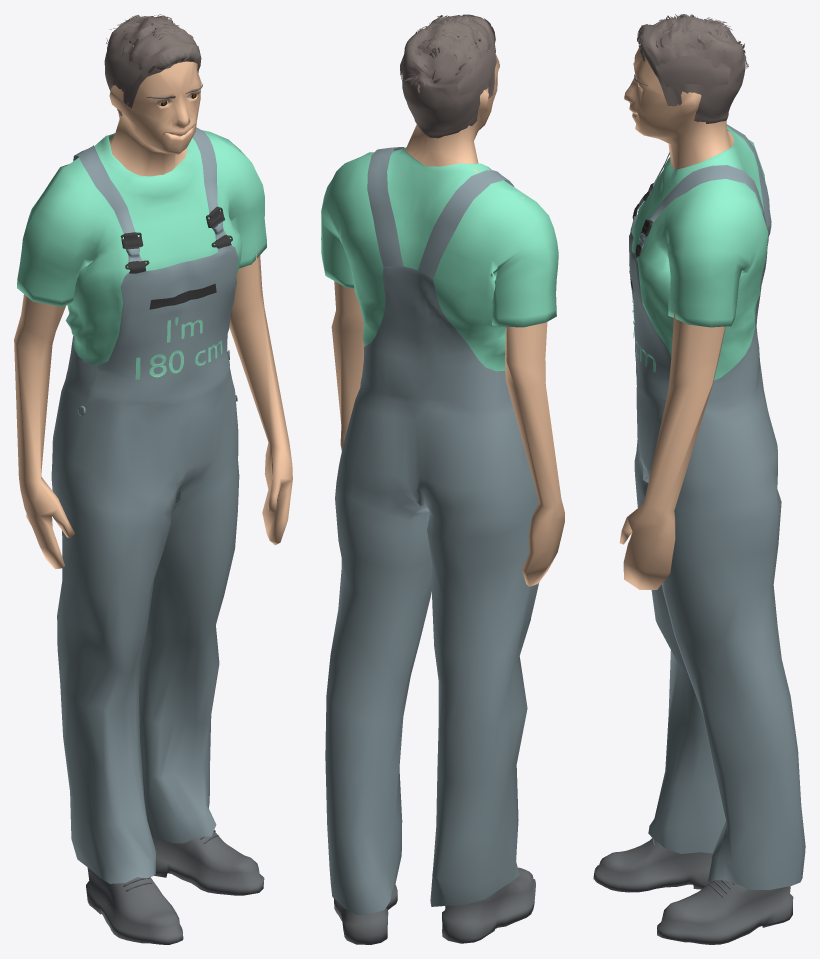
Rendered from woodman2.glb.
3 renders of one model, left to right at view 1: azimuth 30°, elevation 25°; view 2: azimuth 150°, elevation 25°; view 3: azimuth 270°, elevation 25°, orthographic.
Visible parts, largest first — view 1: Worker; view 2: Worker; view 3: Worker.
Boxes of the visible parts, box(x1,y1,x2,y2) form: Worker: box(14, 14, 292, 944); Worker: box(321, 14, 564, 944); Worker: box(593, 14, 805, 944).
Bounding box in the file's own units: 0.5343 × 1.89 × 0.4128.
